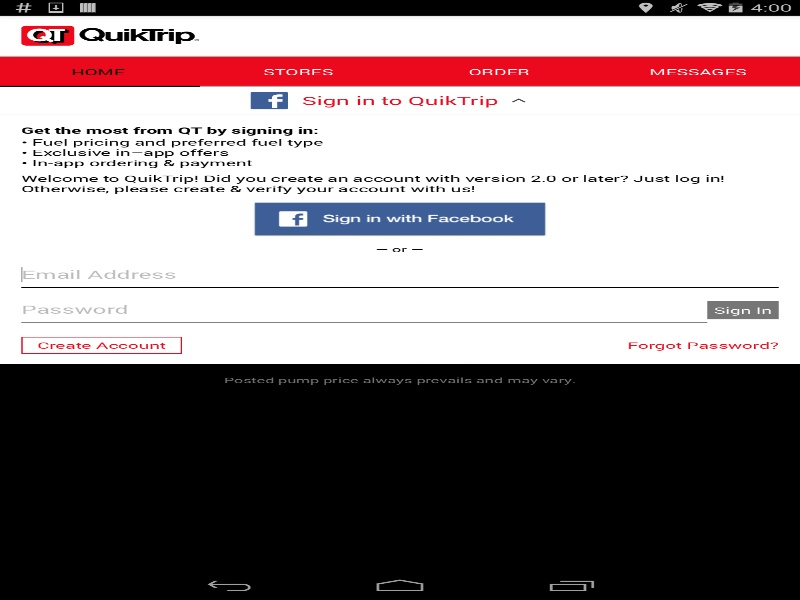Button: (253, 202, 546, 236), (611, 336, 800, 353), (21, 336, 182, 353), (707, 301, 778, 319)
Input: (21, 261, 778, 291), (21, 296, 707, 326)
